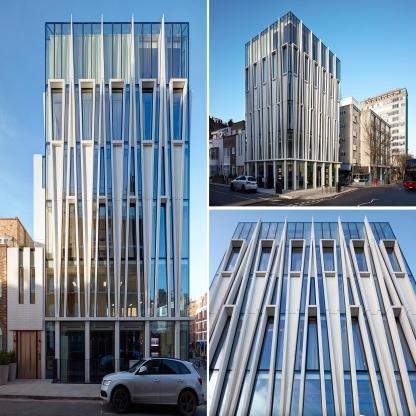Balcony: (14, 240, 46, 251)
Building Outline: (6, 13, 195, 385)
Door: (20, 332, 34, 379)
Facade: (6, 13, 193, 384)
Floor Slab: (45, 86, 189, 92), (45, 143, 189, 149), (46, 318, 189, 324), (46, 201, 189, 207), (46, 259, 189, 265)
Glass Wall: (73, 24, 102, 84), (103, 24, 131, 84), (134, 24, 161, 84), (46, 24, 71, 84), (60, 322, 85, 381), (90, 322, 115, 381), (120, 322, 145, 381), (164, 24, 188, 84), (150, 322, 174, 381), (180, 322, 189, 381), (46, 322, 55, 378), (43, 156, 46, 188)
Window: (67, 260, 78, 317), (157, 259, 168, 316), (97, 260, 108, 316), (127, 260, 138, 316), (142, 90, 153, 140), (180, 259, 189, 316), (52, 89, 62, 140), (82, 89, 92, 140), (46, 261, 55, 317), (112, 90, 122, 140), (128, 205, 137, 258), (173, 90, 182, 140), (68, 204, 76, 258), (98, 205, 106, 258), (182, 200, 189, 258), (46, 202, 53, 258), (159, 203, 166, 257), (121, 200, 127, 258), (183, 142, 189, 199), (154, 85, 160, 141), (46, 144, 52, 200), (76, 143, 82, 199), (106, 143, 112, 199), (91, 202, 97, 258), (124, 86, 130, 141), (108, 200, 113, 258), (151, 200, 156, 258), (61, 201, 66, 258), (78, 201, 83, 258), (60, 260, 65, 317), (150, 259, 155, 316), (170, 259, 175, 316), (105, 85, 110, 141), (135, 85, 140, 141), (63, 143, 68, 199), (93, 143, 98, 199), (123, 143, 128, 199), (153, 143, 158, 199), (80, 260, 85, 316), (90, 260, 95, 316), (110, 260, 115, 316), (120, 260, 125, 316), (140, 260, 145, 316), (75, 86, 80, 141), (94, 86, 99, 141), (100, 148, 105, 196), (130, 148, 135, 196), (139, 200, 143, 258), (46, 86, 50, 142), (65, 86, 69, 142), (166, 85, 170, 141), (137, 143, 141, 199), (167, 143, 171, 199), (185, 86, 189, 141), (70, 148, 74, 196), (170, 200, 173, 258), (161, 148, 164, 195), (31, 268, 35, 303), (19, 268, 23, 303)
